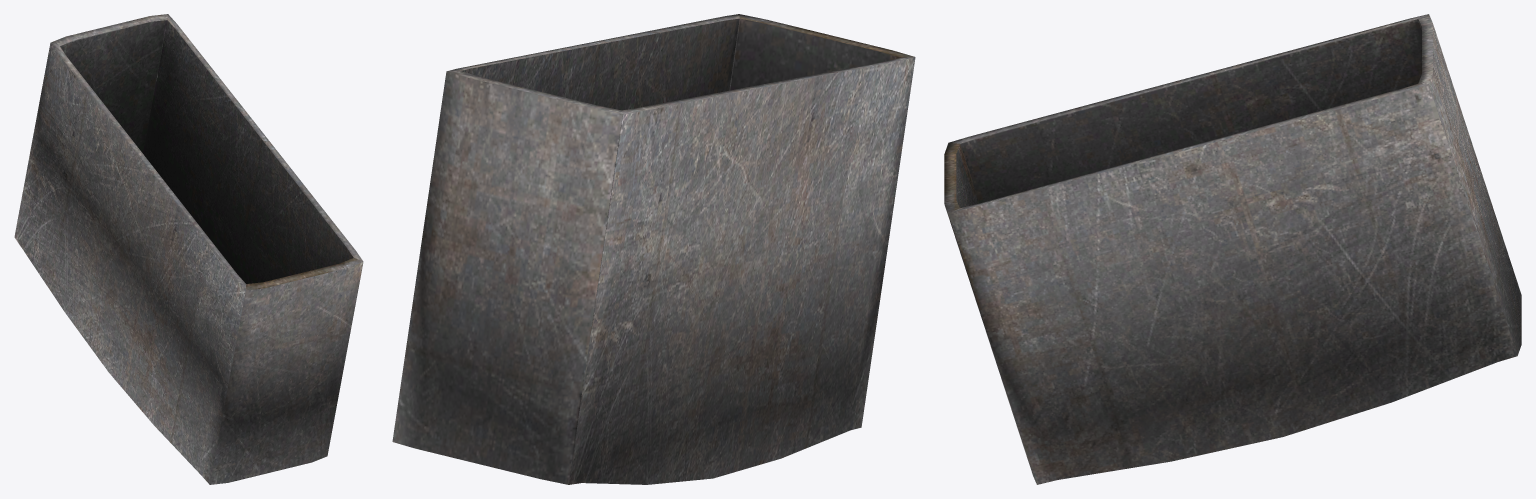
The model's file is Zippo_head.fbx.
3 renders of one model, left to right at view 1: azimuth 30°, elevation 25°; view 2: azimuth 150°, elevation 25°; view 3: azimuth 270°, elevation 25°, orthographic. The views are drawn at different scales.
Visible parts, largest first — view 1: head; view 2: head; view 3: head.
Boxes of the visible parts, x1,y1,x2,y2 form: head: [14, 14, 363, 484]; head: [392, 14, 915, 484]; head: [944, 14, 1521, 484].
Bounding box in the file's own units: 0.2033 × 0.5318 × 0.6909.
